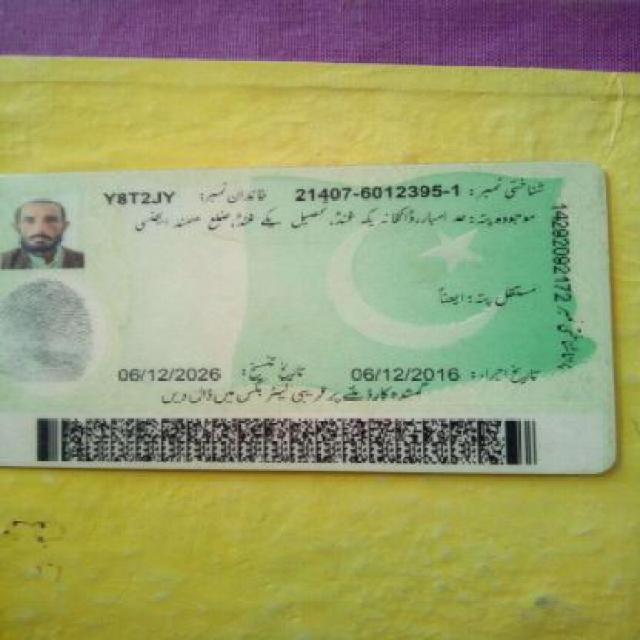Back: (6, 160, 625, 478)
